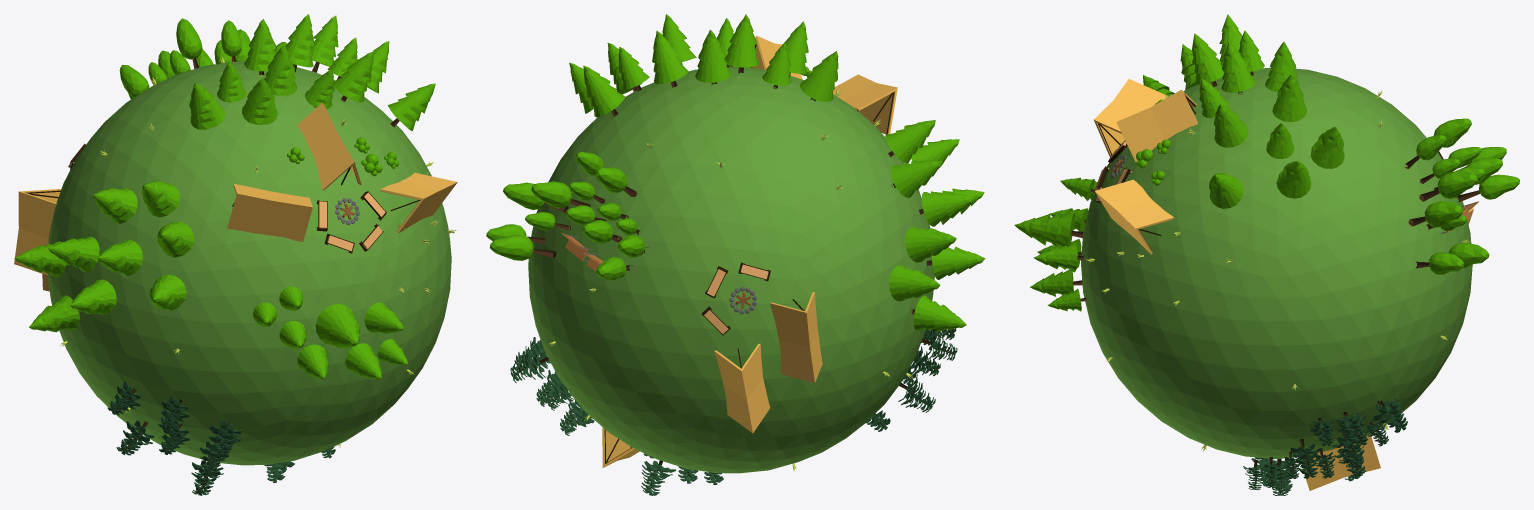
Rendered from CampPlanet.fbx.
The picture shows the model from 3 angles, left to right: view 1: azimuth 30°, elevation 25°; view 2: azimuth 150°, elevation 25°; view 3: azimuth 270°, elevation 25°; orthographic projection. The views are drawn at different scales.
Visible parts, largest first — view 1: PLANet; view 2: PLANet; view 3: PLANet.
Boxes of the visible parts, box(x1,y1,x2,y2) form: PLANet: box(14, 14, 457, 495); PLANet: box(486, 14, 985, 495); PLANet: box(1014, 14, 1519, 495).
Size of the model in its own units: 2772 by 2995 by 3101.
